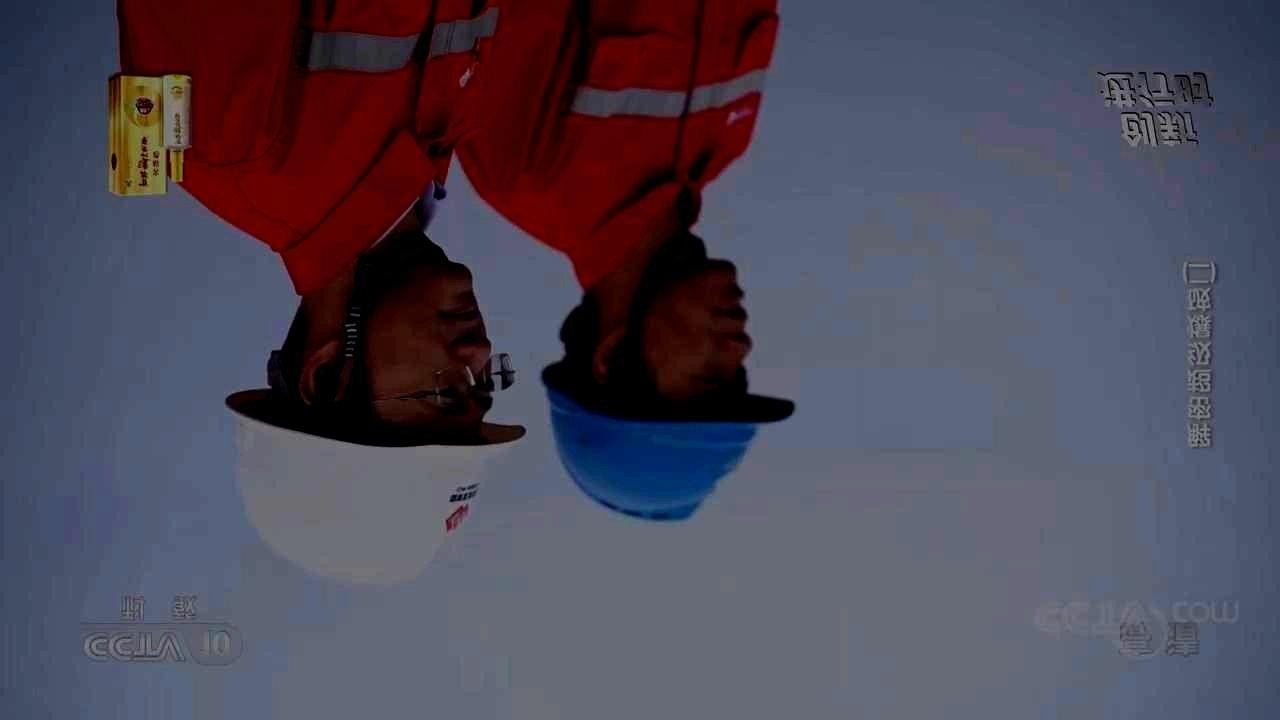helmet: (223, 261, 528, 588), (539, 258, 797, 523)
